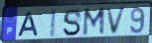9: (129, 6, 146, 34)
A: (17, 12, 40, 39)
I: (48, 9, 58, 40)
M: (82, 7, 107, 38)
S: (62, 8, 83, 37)
V: (105, 6, 127, 36)
